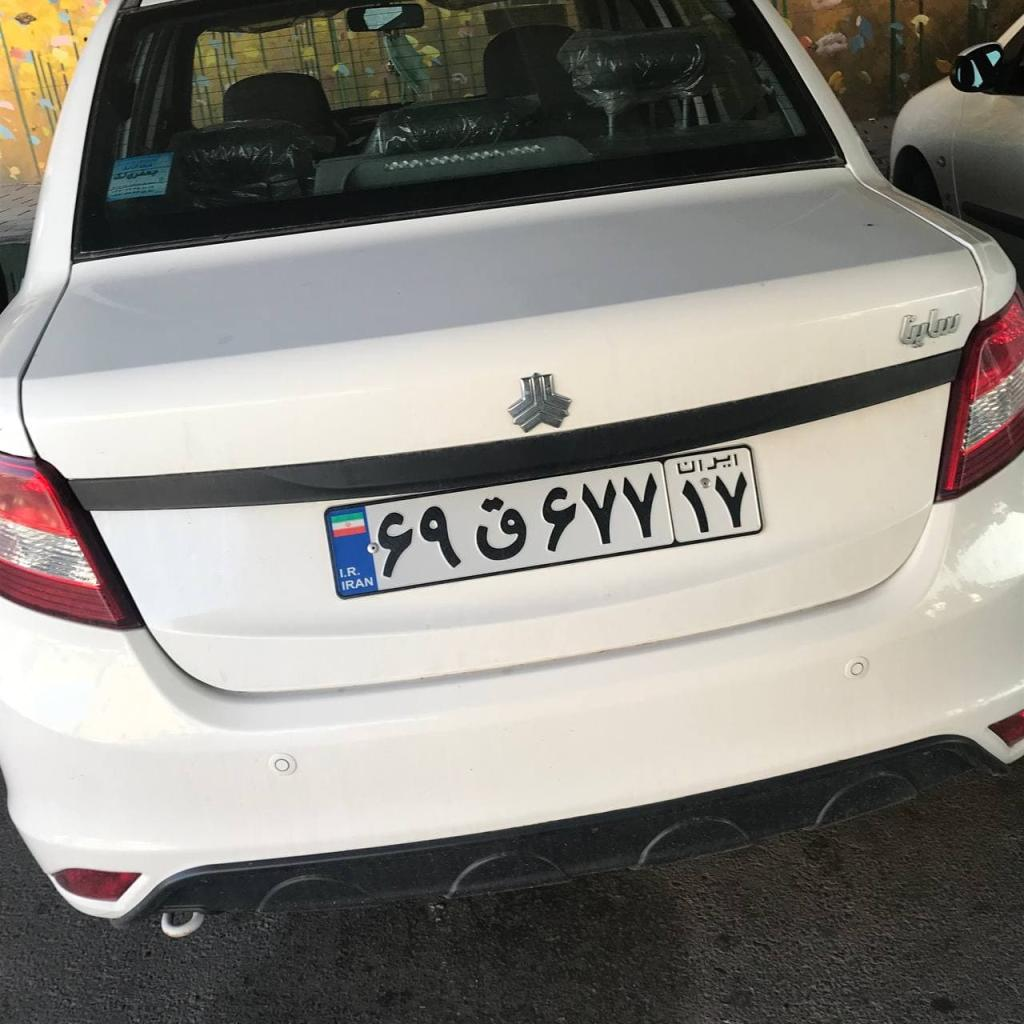Plates: (324, 445, 763, 599)
